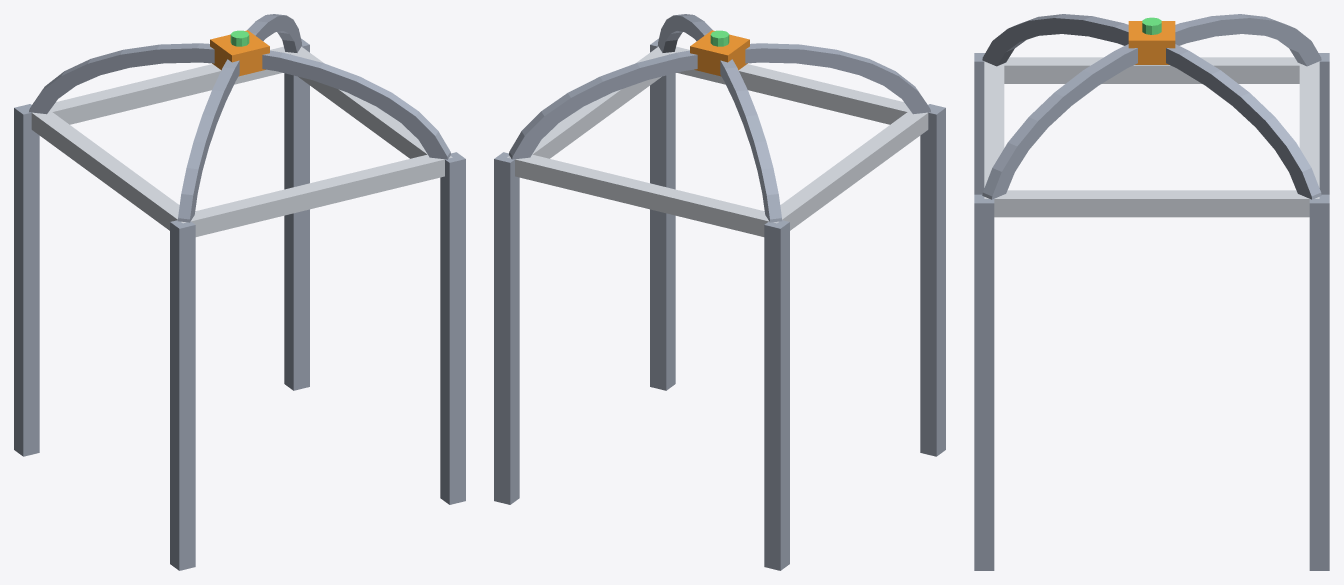
File: corridor_junction.obj
The picture shows the model from 3 angles, left to right: view 1: azimuth 30°, elevation 25°; view 2: azimuth 150°, elevation 25°; view 3: azimuth 270°, elevation 25°; orthographic projection. The views are drawn at different scales.
Parts seen in each view (by area): view 1: corridor_junction; view 2: corridor_junction; view 3: corridor_junction.
Part boxes in pixels (<box>): corridor_junction: <box>14,14,465,570</box>; corridor_junction: <box>494,14,945,570</box>; corridor_junction: <box>974,14,1329,570</box>.
Size of the model in its own units: 2.12 by 3.12 by 2.12.
